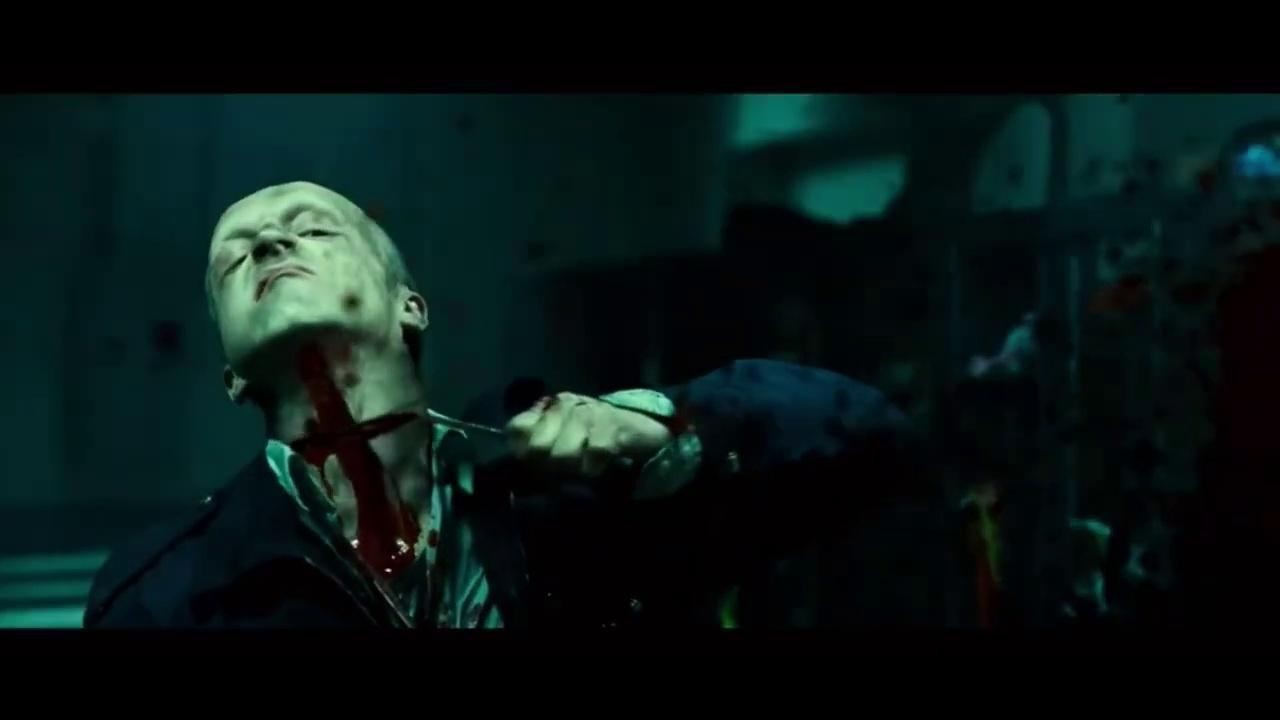Fire: (290, 343, 419, 576)
